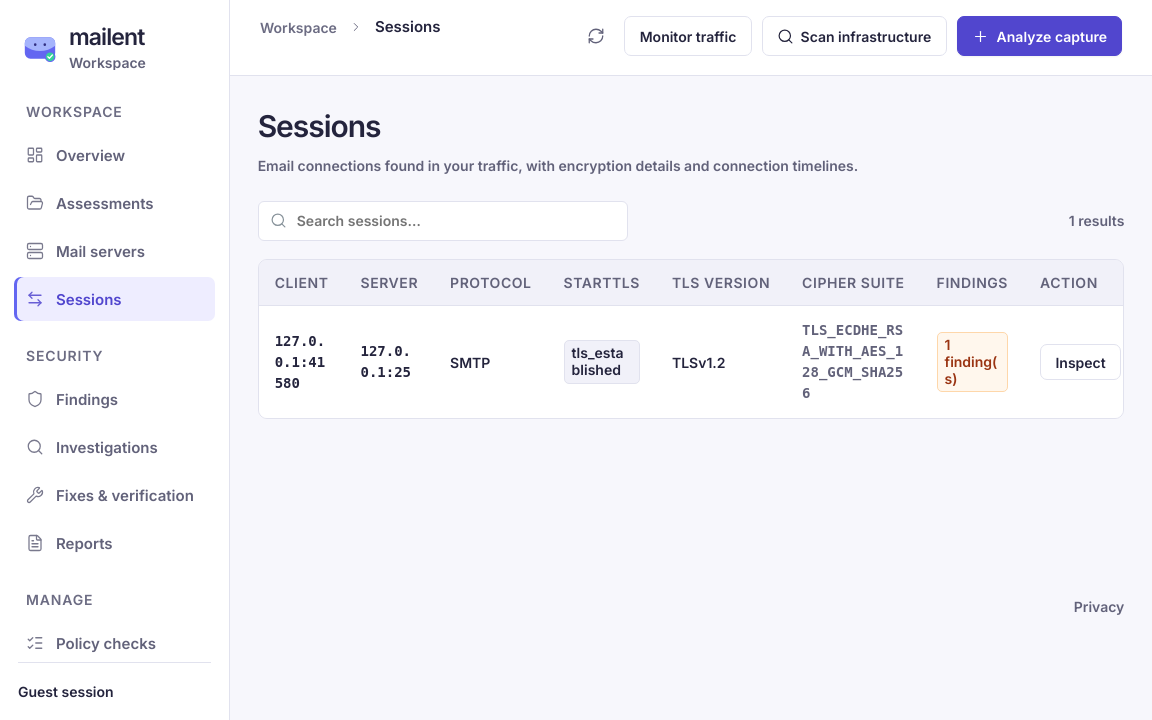
observation console › renders analyzed sessions table and inspects session timeline
The width and height of the screenshot is (1152, 720).
Check: the heading "Sessions" is shown, box [258,108,380,144]
Check: the text "127.0.0.1:41580" is shown, box [259,306,344,418]
Click the button "Inspect". click: (1080, 362)
box: [1040,344,1121,380]
(page scrolled)
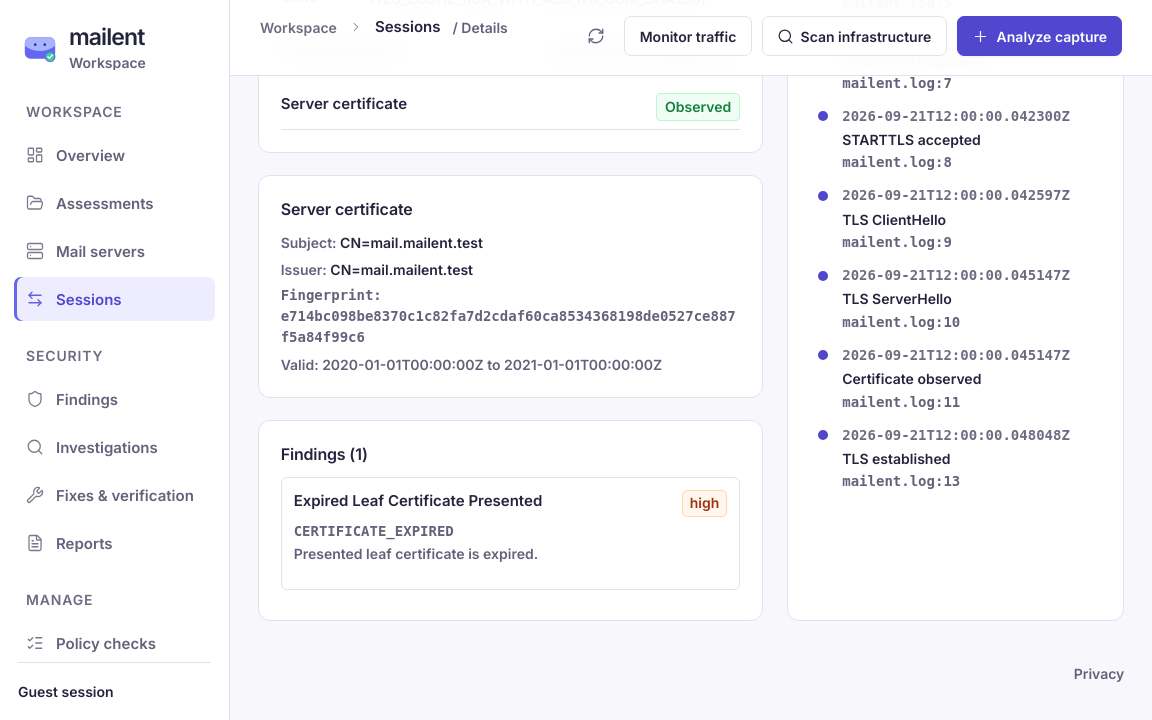
Check: the text "TLS ClientHello" is shown, box [842,211,946,228]
Check: the text "TLS ServerHello" is shown, box [842,290,952,308]
Check: the text "Certificate observed" is shown, box [842,370,981,387]
